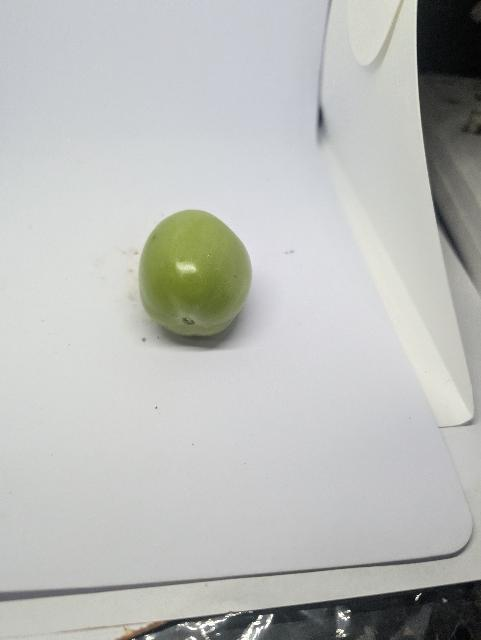green: (118, 200, 283, 357)
